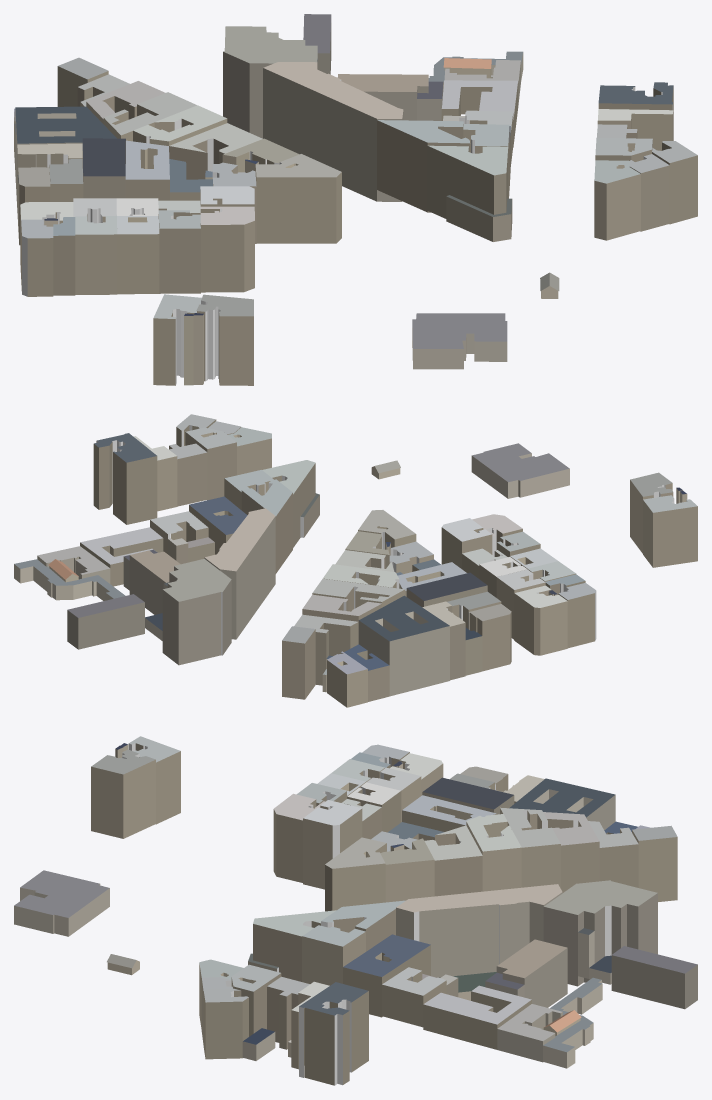
The picture shows the model from 3 angles, top to bottom: view 1: azimuth 30°, elevation 25°; view 2: azimuth 150°, elevation 25°; view 3: azimuth 270°, elevation 25°; orthographic projection. The views are drawn at different scales.
Visible parts, largest first — view 1: tuile; view 2: tuile; view 3: tuile.
Part boxes in pixels (x1=…): tuile: x1=14, y1=14, x2=697, y2=385; tuile: x1=14, y1=414, x2=697, y2=707; tuile: x1=14, y1=736, x2=697, y2=1085.
Bounding box in the file's own units: 272 × 34.36 × 277.
